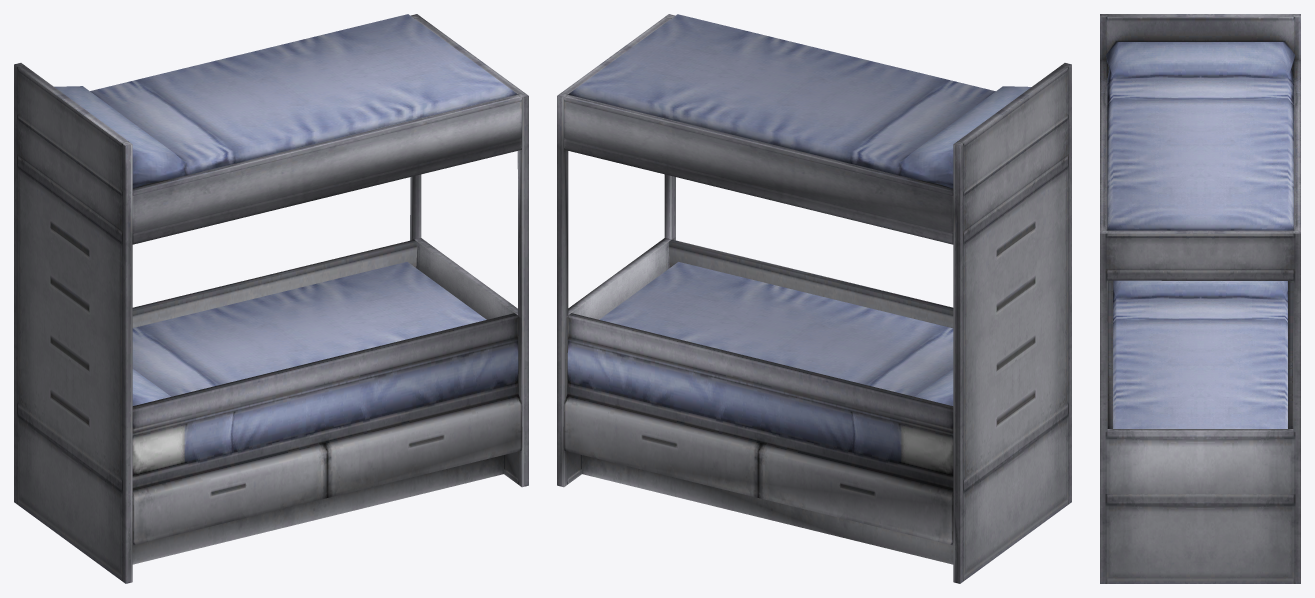
The model's file is BedBunk01.FBX.
3 renders of one model, left to right at view 1: azimuth 30°, elevation 25°; view 2: azimuth 150°, elevation 25°; view 3: azimuth 270°, elevation 25°, orthographic. The views are drawn at different scales.
Parts seen in each view (by area): view 1: BedBunk01; view 2: BedBunk01; view 3: BedBunk01.
Part boxes in pixels (box(x1,y1,x2,y2)): BedBunk01: box(14, 14, 528, 583); BedBunk01: box(557, 14, 1071, 583); BedBunk01: box(1100, 14, 1300, 583).
Bounding box in the file's own units: 2.5 × 2.59 × 1.2.
